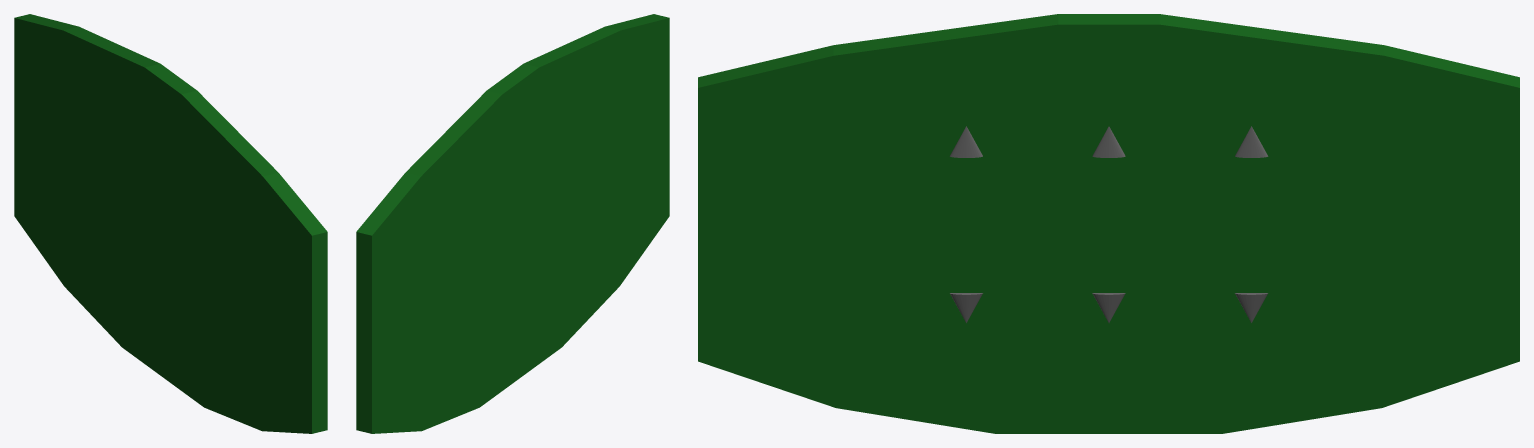
The model's file is CircuitBoard2.fbx.
3 views of the same model, side by side, from view 1: azimuth 30°, elevation 25°; view 2: azimuth 150°, elevation 25°; view 3: azimuth 270°, elevation 25° (orthographic). The views are drawn at different scales.
Parts seen in each view (by area): view 1: Cube; view 2: Cube; view 3: Cube.
Boxes of the visible parts, left/top/right/bottom form: Cube: left=14, top=14, right=327, bottom=433; Cube: left=356, top=14, right=669, bottom=433; Cube: left=698, top=14, right=1519, bottom=433.
Size of the model in its own units: 7 by 108 by 196.
